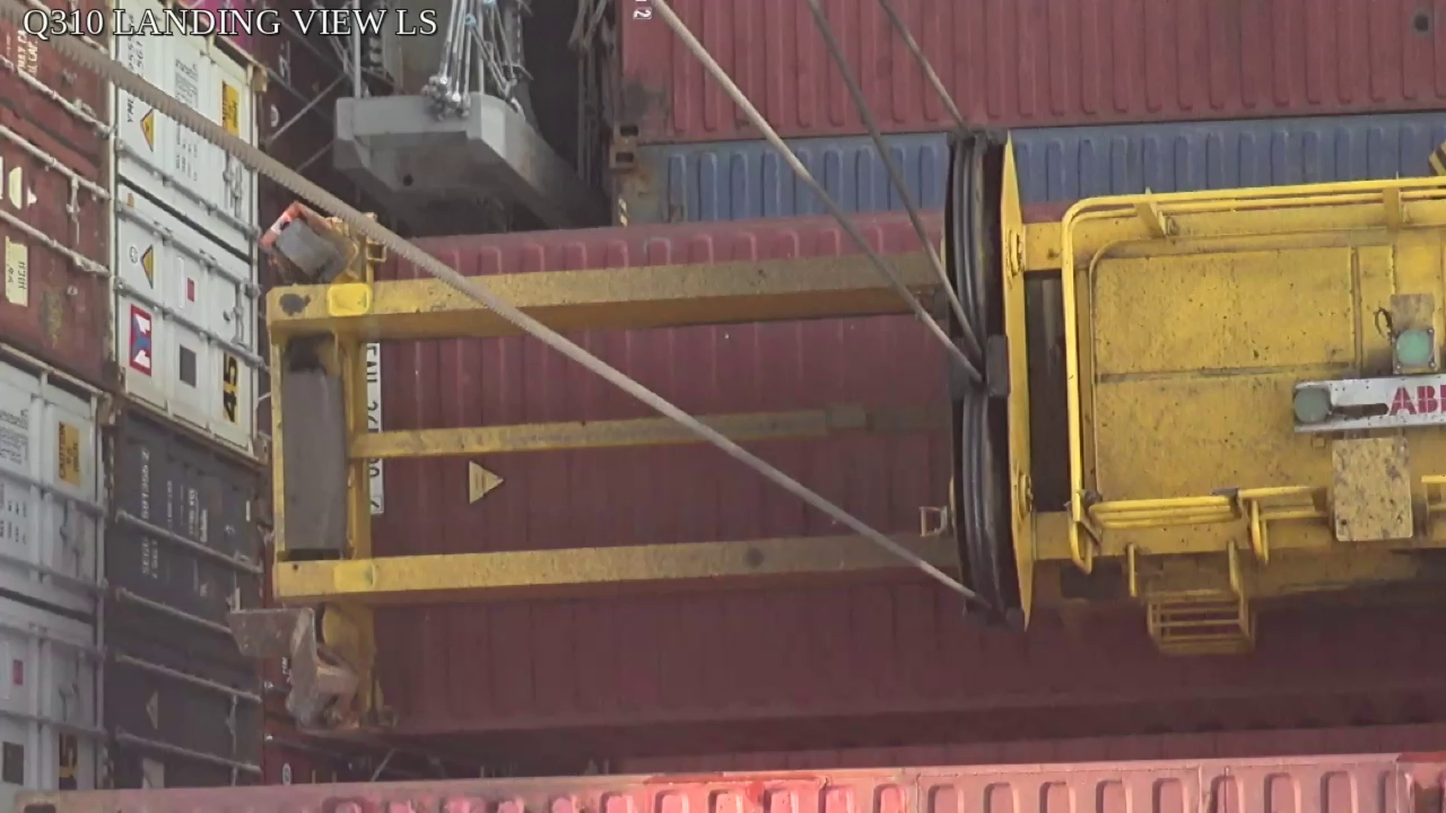aa: (941, 127, 1035, 636)
